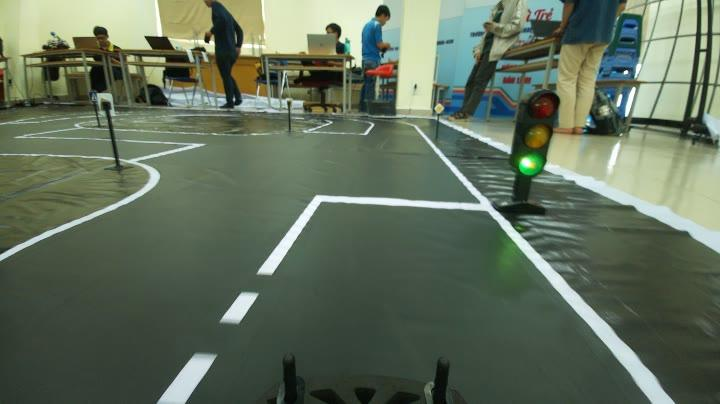trafficlight: (502, 86, 572, 194)
